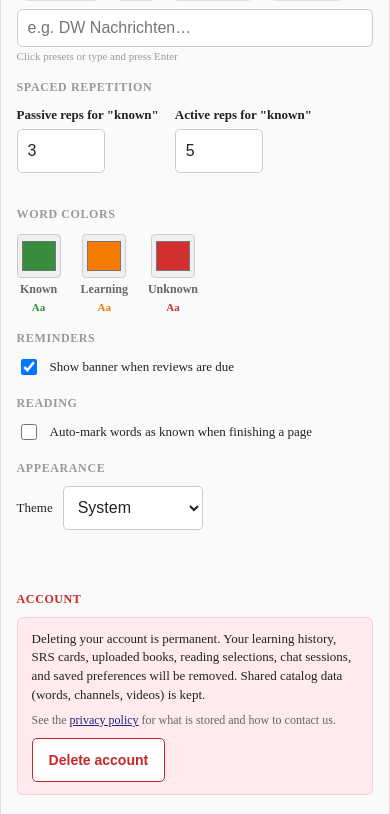
Test: SettingsPanel — account deletion › surfaces an error and keeps the confirm UI when deleteAccount fails
(page scrolled)
Click the button with test id "account-delete-start" at (98, 760), box [32, 738, 165, 782]
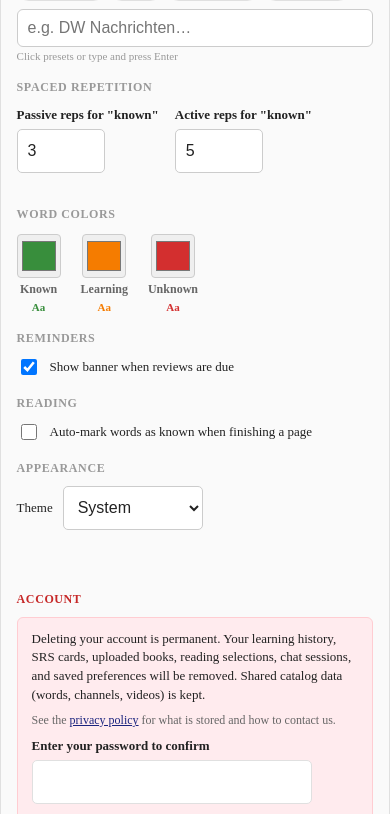
Type "wrong" into the password field with test id "account-delete-password" at (172, 782), box [32, 760, 312, 804]
(page scrolled)
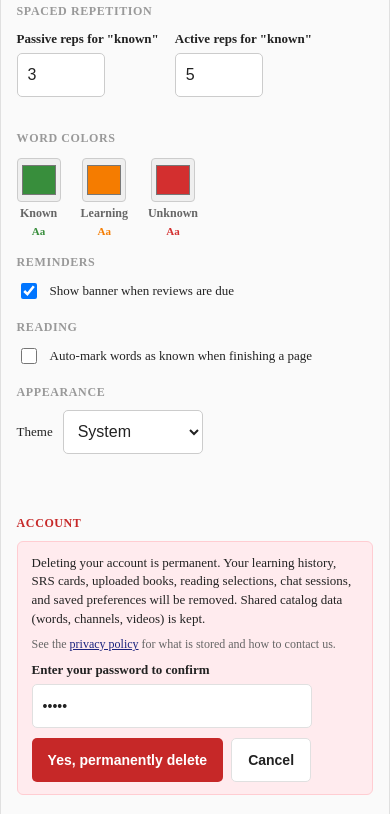
Click the button with test id "account-delete-confirm" at (127, 760), box [32, 738, 223, 782]
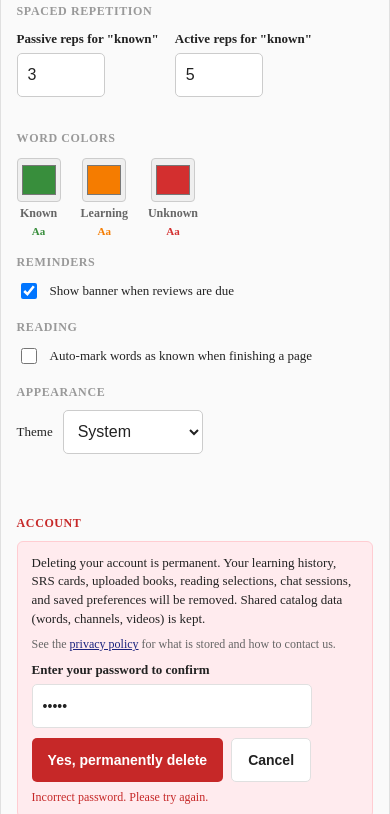
Check: the button with test id "account-delete-confirm" is shown, box [32, 738, 223, 782]
Check: the text "Incorrect password. Please try again." is shown, box [32, 790, 208, 804]
